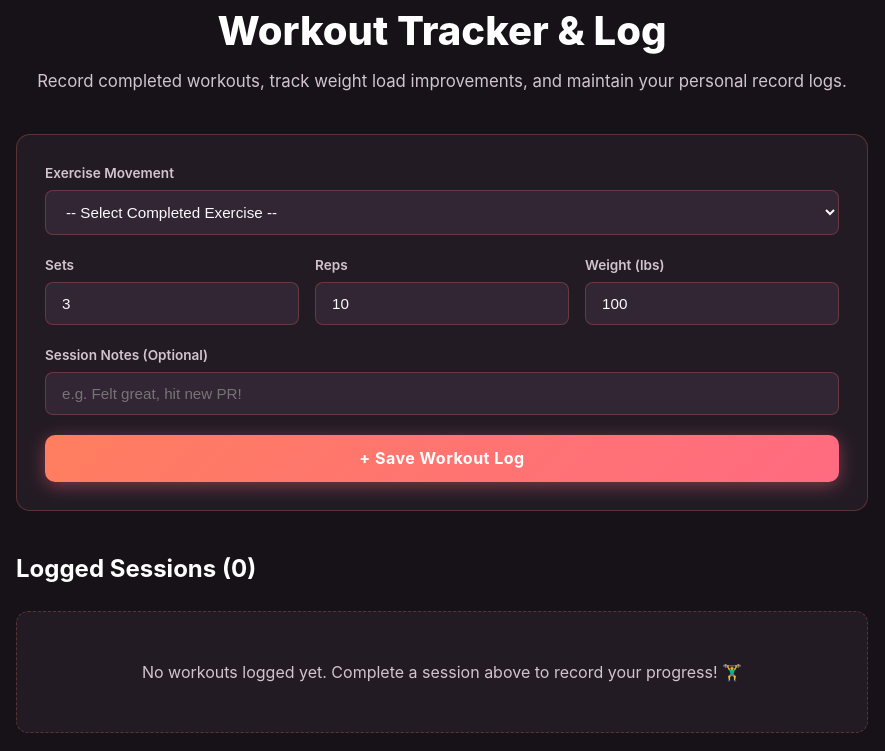
Test case: WorkoutLog Component › clears all logs when confirmation prompt is accepted
The width and height of the screenshot is (885, 751).
Add entry
Select "Barbell Bench Press (Chest)" in the dropdown labelled "Exercise Movement" at (442, 212), box [45,190,839,235]
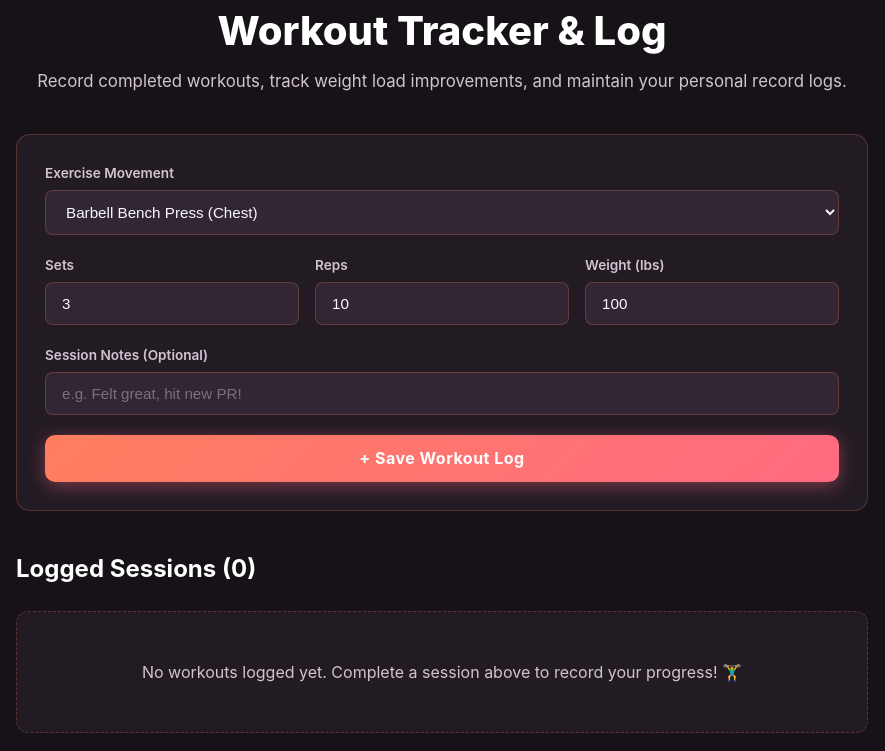
Click the button "+ Save Workout Log".
click(442, 458)  # box [45,434,839,482]
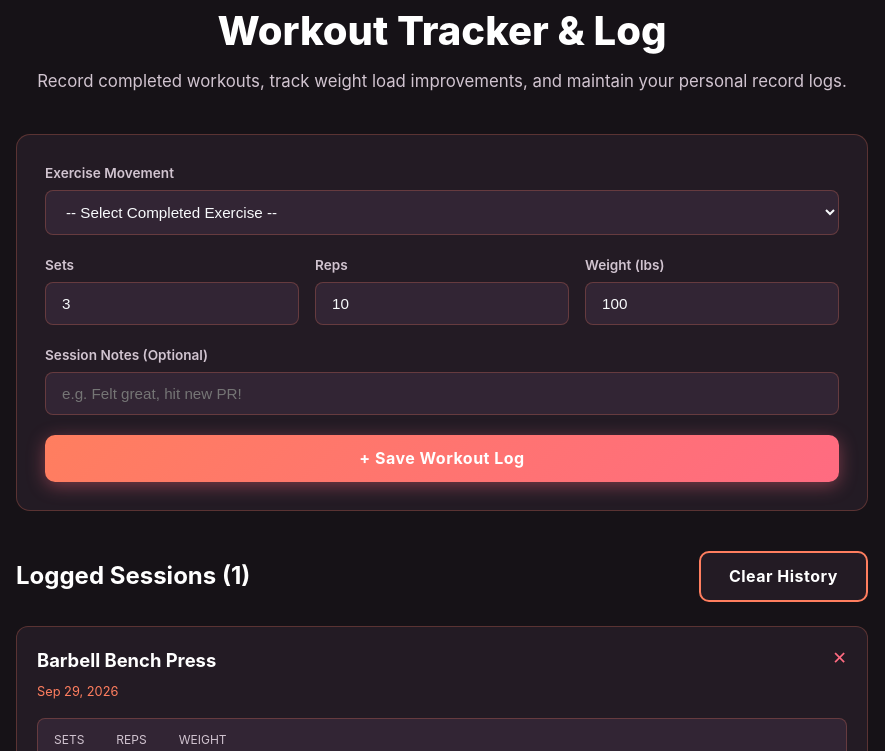
Expected: the heading "Logged Sessions (1)" is shown, [16,558,250,594]
Clear history
Click the button "Clear History".
click(783, 576)  # box [699,551,868,602]
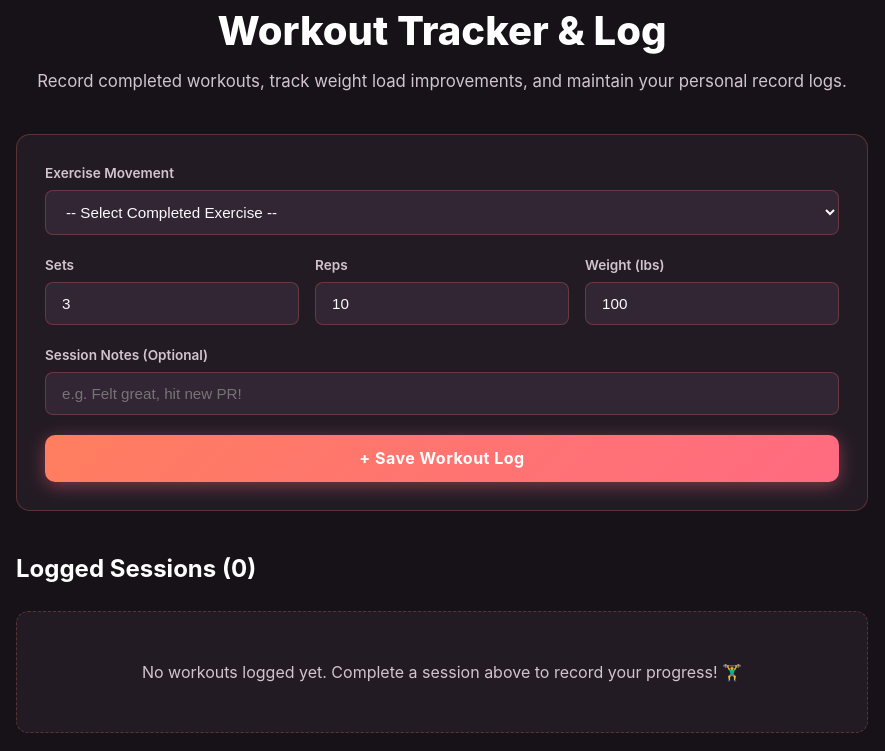
Expected: the text "No workouts logged yet" is shown, [142,662,742,682]
